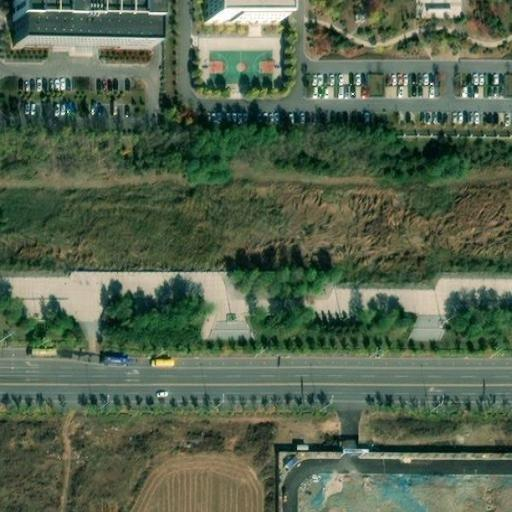building: (282, 445, 512, 511), (15, 0, 150, 45), (206, 0, 277, 22)
